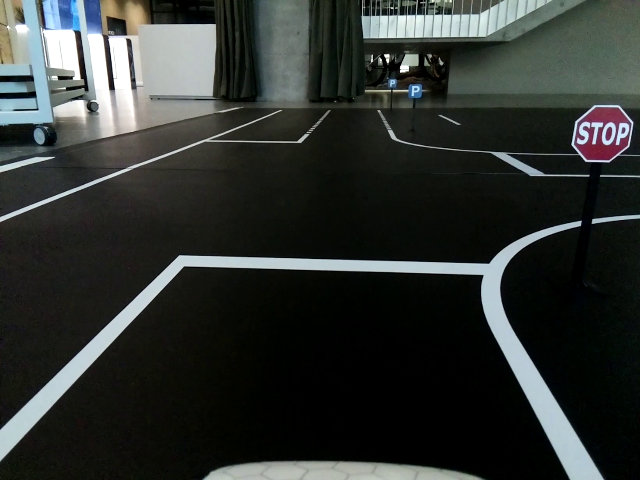stop: (573, 103, 631, 163)
